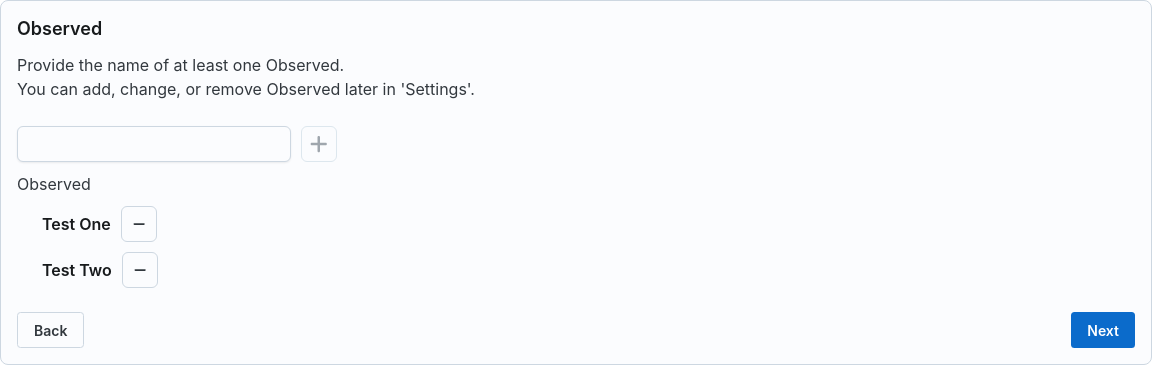
Test case: ObservedCard test › should remove
Click the button named "Remove Test Two": (140, 270) [122, 252, 158, 288]
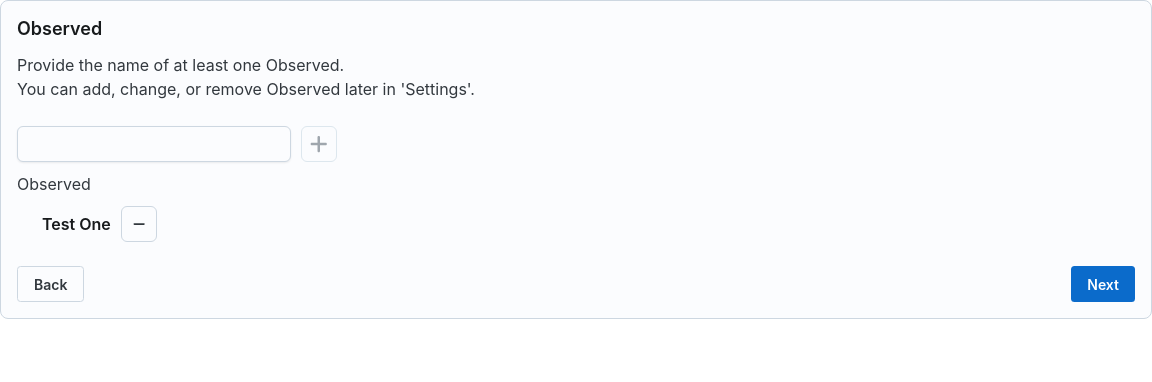
Check: the number of buttons is 4, box [301, 126, 337, 162]; [121, 206, 157, 242]; [17, 266, 84, 302]; [1071, 266, 1135, 302]
